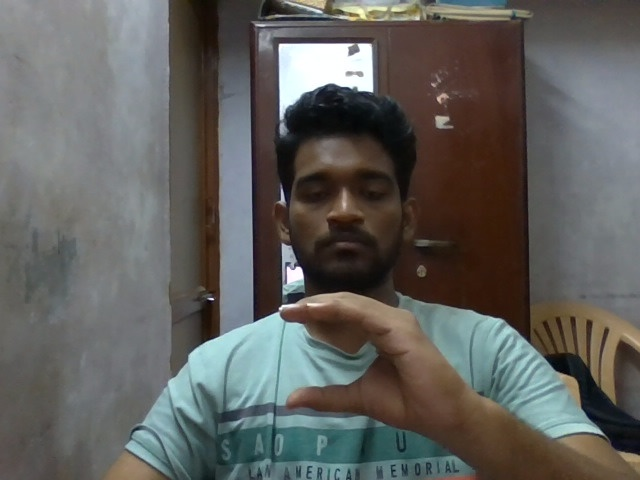C: (263, 282, 484, 471)
